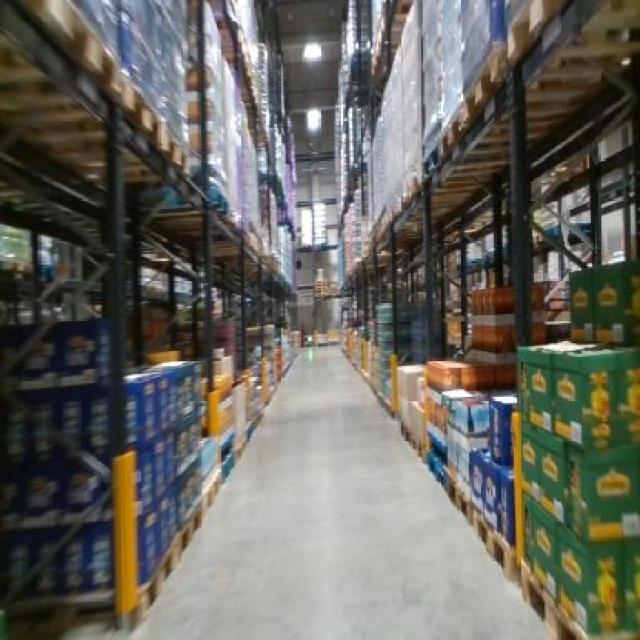pallets: (517, 342, 637, 631)
